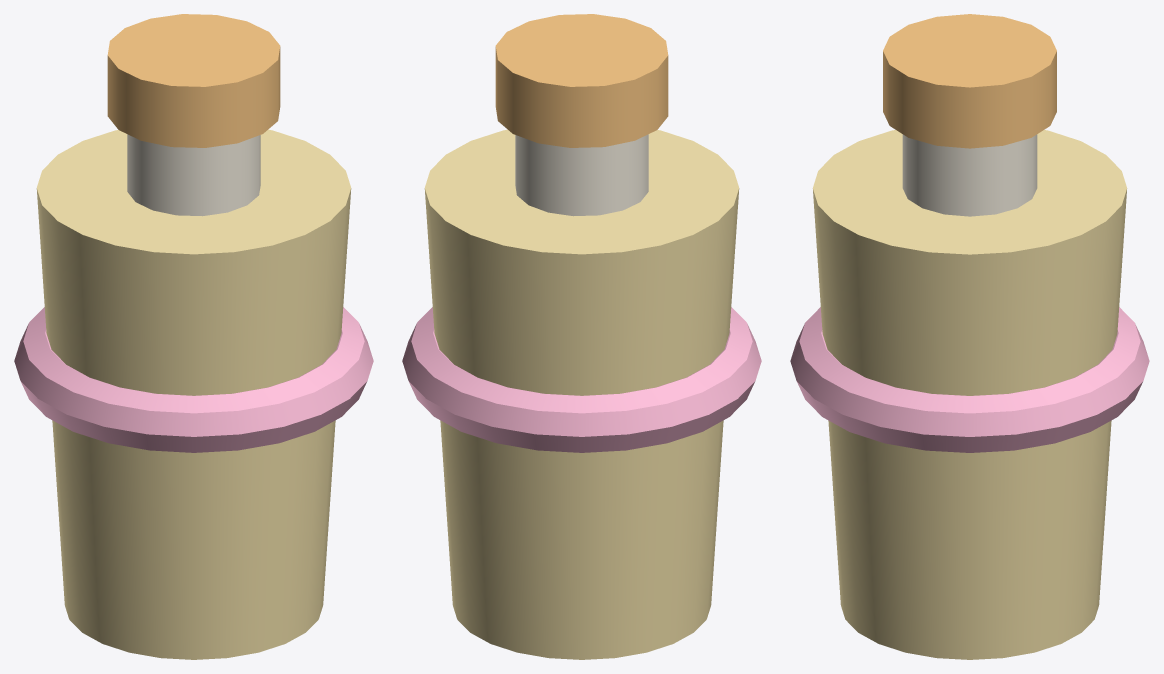
Rendered from banana-milk.glb.
3 renders of one model, left to right at view 1: azimuth 30°, elevation 25°; view 2: azimuth 150°, elevation 25°; view 3: azimuth 270°, elevation 25°, orthographic.
Parts seen in each view (by area): view 1: banana_milk; view 2: banana_milk; view 3: banana_milk.
Part boxes in pixels (x1,y1,x2,y2): banana_milk: [14, 14, 373, 659]; banana_milk: [402, 14, 761, 659]; banana_milk: [790, 14, 1149, 659].
Size of the model in its own units: 0.064 by 0.109 by 0.064.
